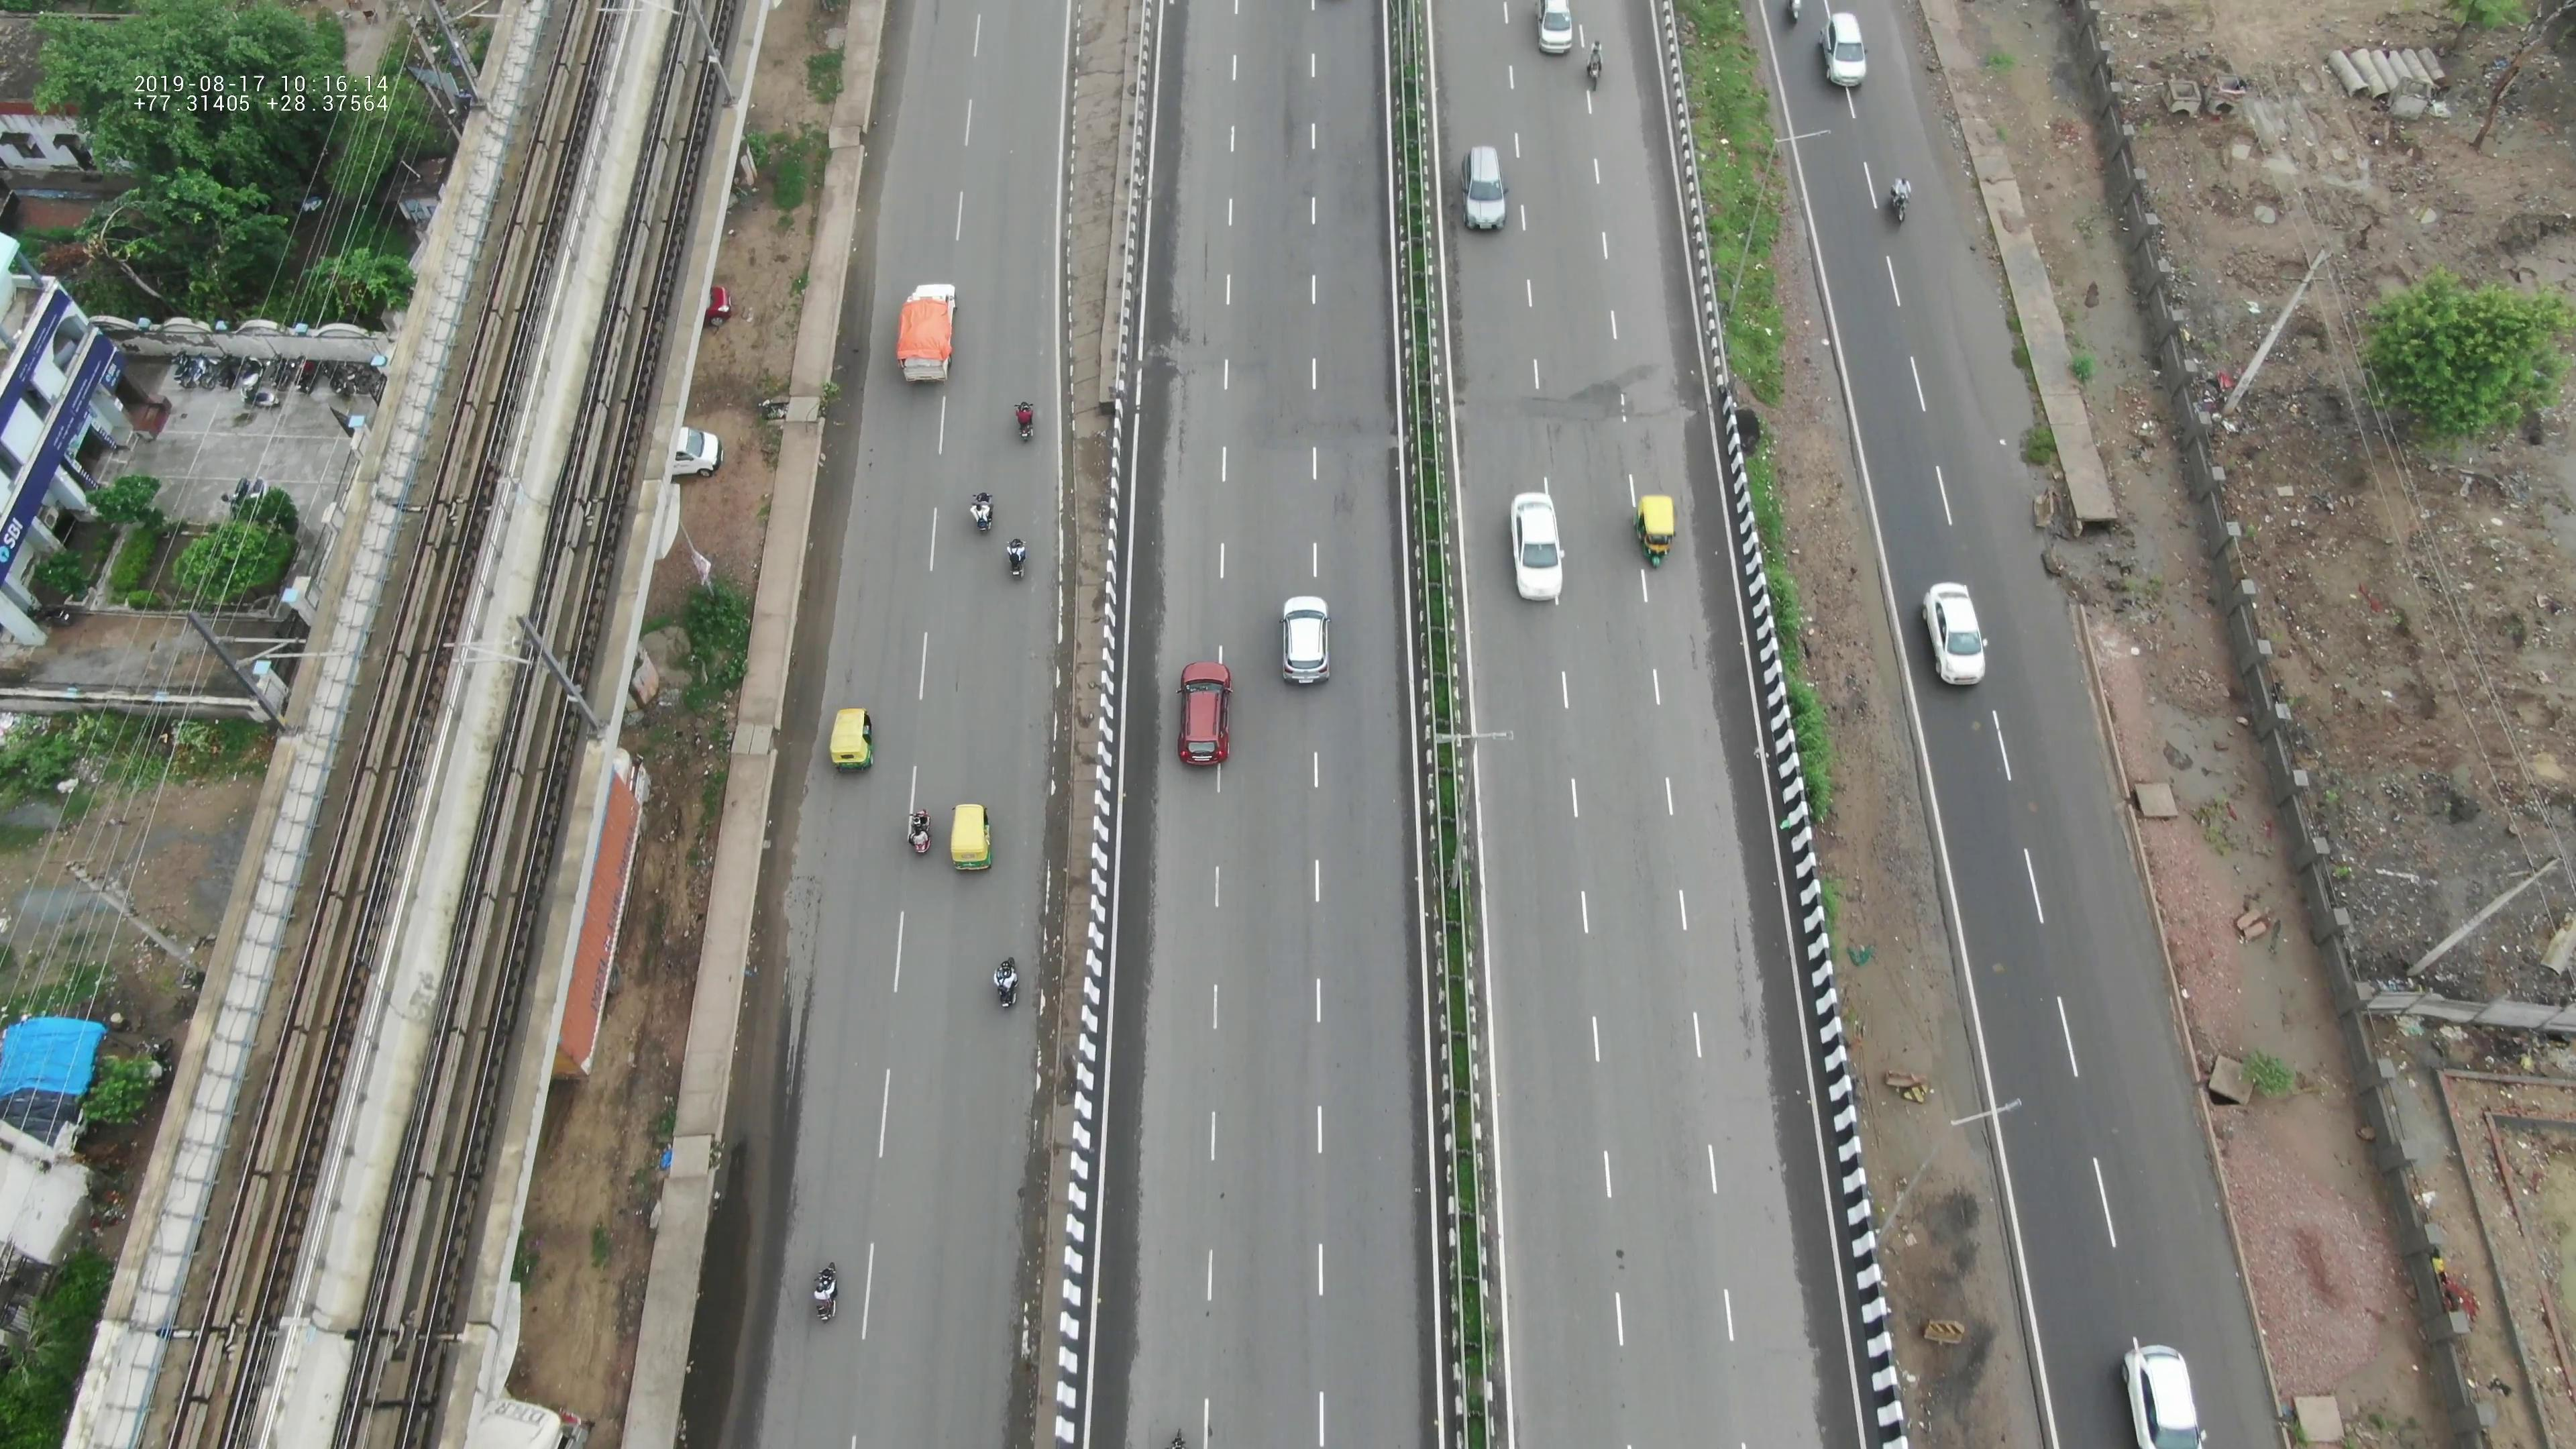Potholes: (1520, 382, 1640, 449)
